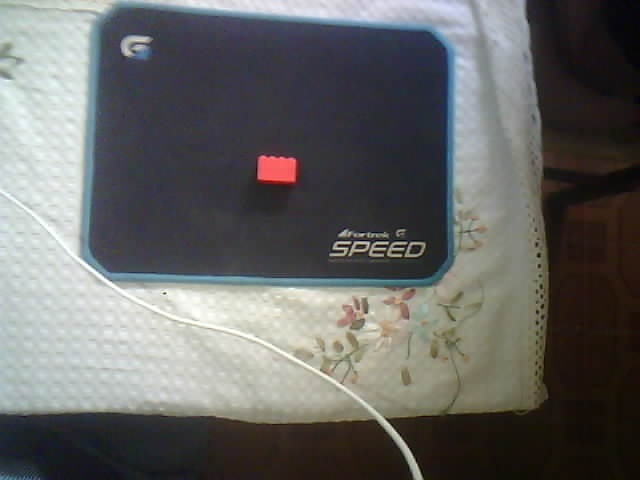lego: (256, 154, 296, 185)
